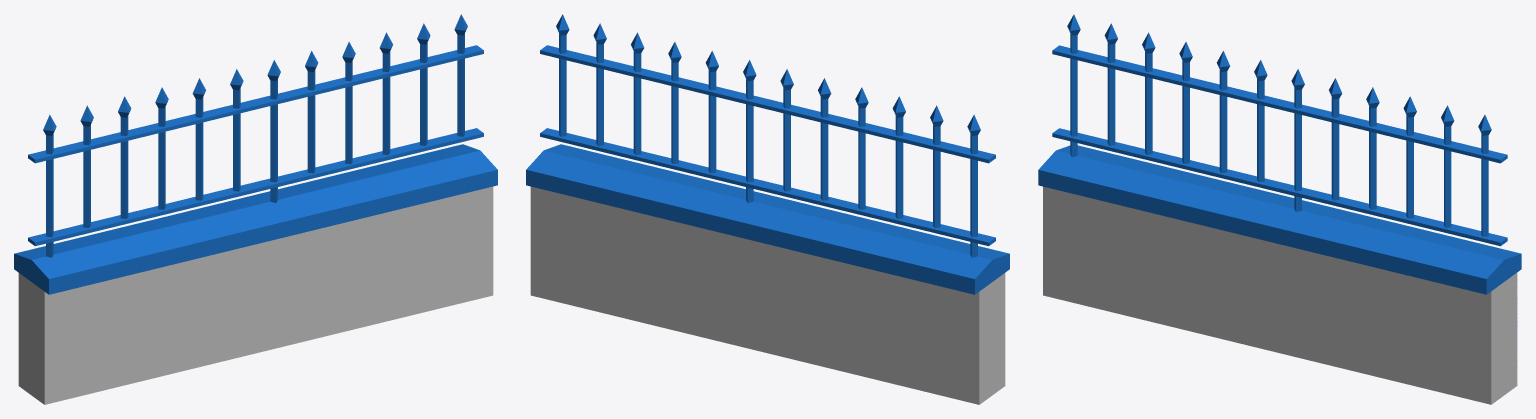
File: SM_fence_3.fbx
The picture shows the model from 3 angles, left to right: view 1: azimuth 30°, elevation 25°; view 2: azimuth 150°, elevation 25°; view 3: azimuth 330°, elevation 25°; orthographic projection.
Visible parts, largest first — view 1: Cloner_3; view 2: Cloner_3; view 3: Cloner_3.
Part boxes in pixels (box(x1,y1,x2,y2)): Cloner_3: box(14, 14, 497, 404); Cloner_3: box(526, 14, 1009, 404); Cloner_3: box(1038, 14, 1521, 404).
Bounding box in the file's own units: 300 × 177 × 40.4.
